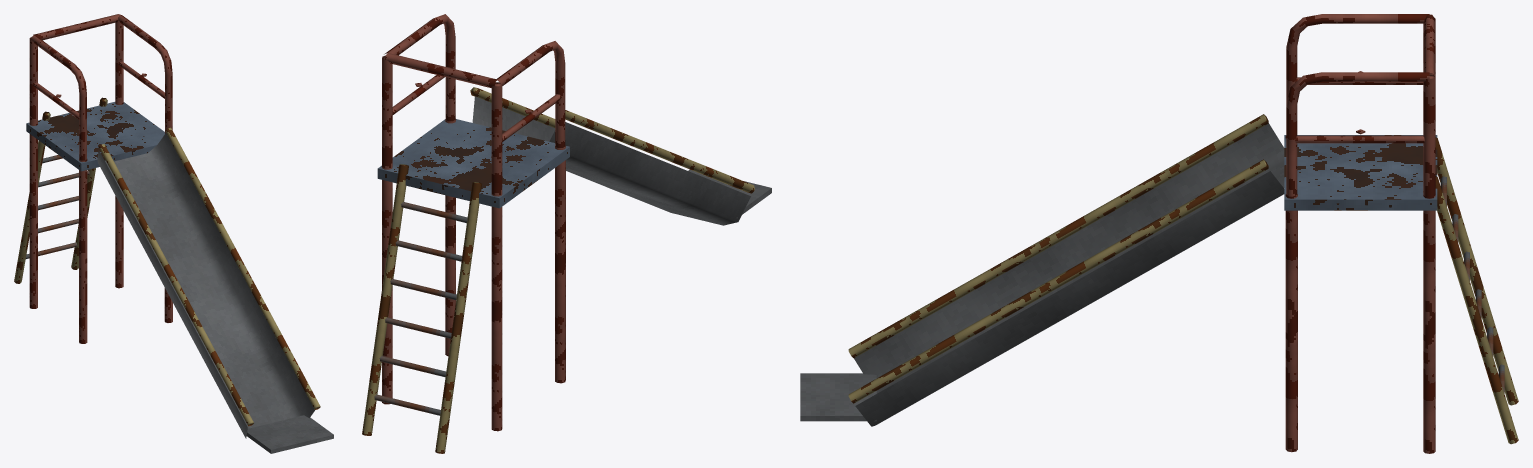
The model's file is slide.glb.
The picture shows the model from 3 angles, left to right: view 1: azimuth 30°, elevation 25°; view 2: azimuth 150°, elevation 25°; view 3: azimuth 270°, elevation 25°; orthographic projection. The views are drawn at different scales.
Parts seen in each view (by area): view 1: frame-col; view 2: frame-col; view 3: frame-col.
Boxes of the visible parts, x1,y1,x2,y2 form: frame-col: (14, 14, 333, 453); frame-col: (362, 14, 771, 453); frame-col: (800, 14, 1518, 453).
Size of what is drawn, in the model's own units: 1 by 2.74 by 4.7.
Materials: 5 (5 with a texture image).
